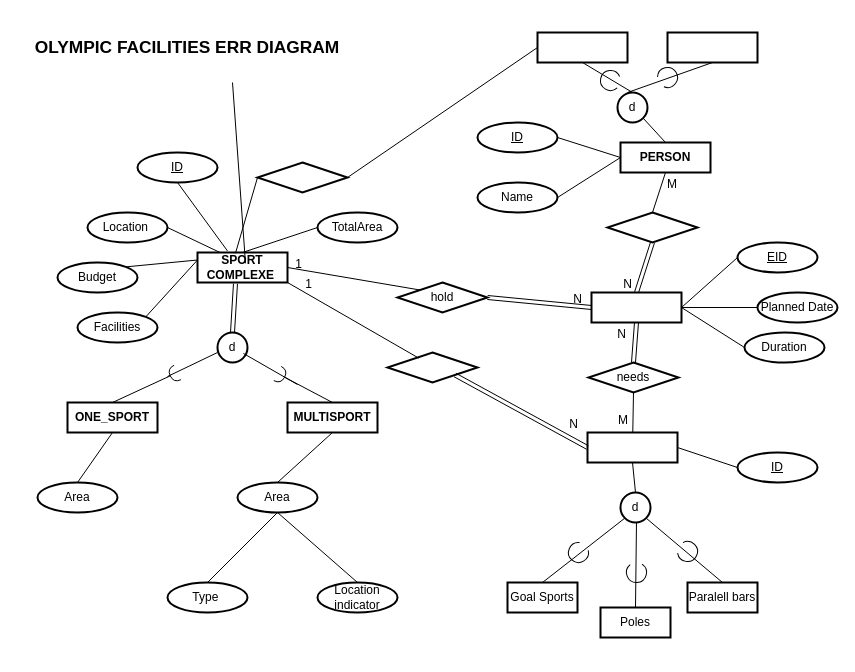
This 855x672 diagram has some shape labels left out. Each missing label, with the centre of its shape:
"EQUIPMENT" belongs at point 632,447.
"EVENT" belongs at point 636,307.
"has" belongs at point 302,177.
"maintains" belongs at point 432,367.
"OFFICIALS" belongs at point 582,47.
"PARTICIPANTS" belongs at point 712,47.
"take part in" belongs at point 652,227.
